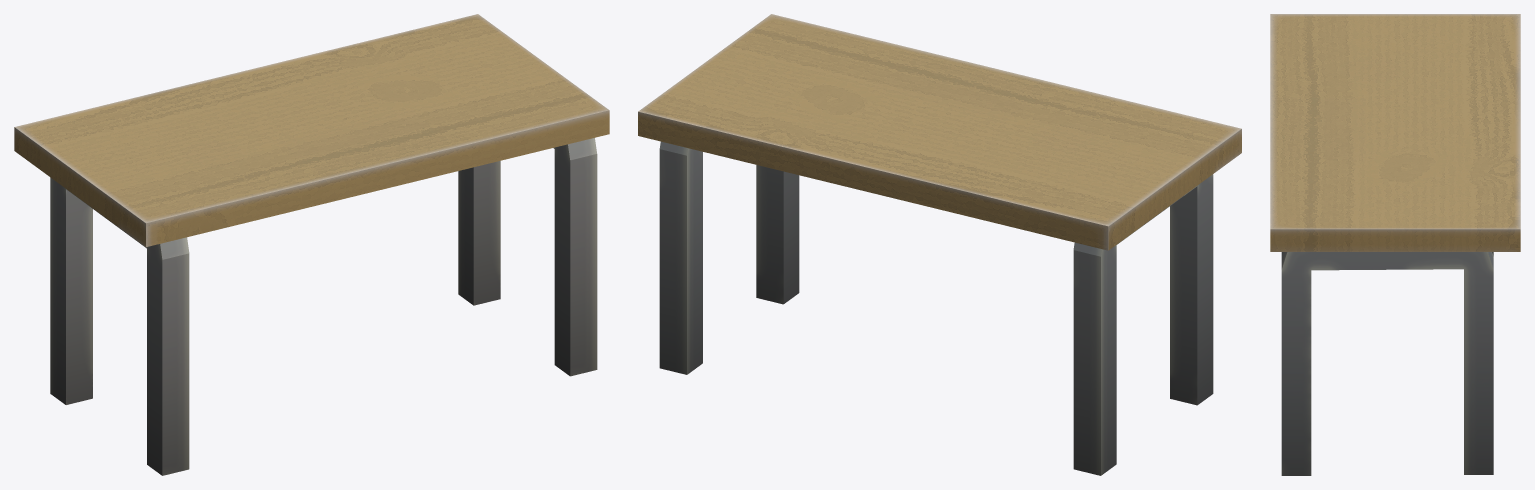
Rendered from desk.fbx.
3 views of the same model, side by side, from view 1: azimuth 30°, elevation 25°; view 2: azimuth 150°, elevation 25°; view 3: azimuth 270°, elevation 25° (orthographic). The views are drawn at different scales.
Parts seen in each view (by area): view 1: Box001; view 2: Box001; view 3: Box001.
Boxes of the visible parts, bbox=[...] form: Box001: bbox=[14, 14, 609, 475]; Box001: bbox=[638, 14, 1241, 475]; Box001: bbox=[1270, 14, 1520, 475].
Bounding box in the file's own units: 99.99 × 54.08 × 49.13.
